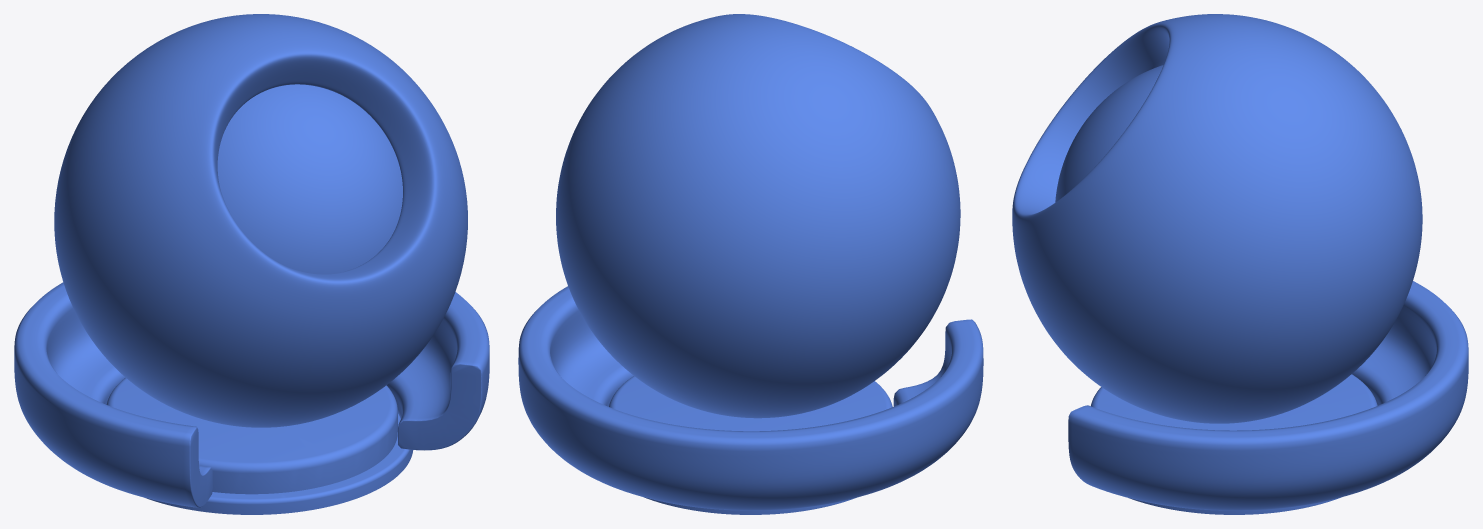
Rendered from gltf_pbr_plastic.mtlx.glb.
3 views of the same model, side by side, from view 1: azimuth 30°, elevation 25°; view 2: azimuth 150°, elevation 25°; view 3: azimuth 270°, elevation 25° (orthographic). The views are drawn at different scales.
Parts seen in each view (by area): view 1: Preview_Mesh, Calibration_Mesh; view 2: Preview_Mesh, Calibration_Mesh; view 3: Preview_Mesh, Calibration_Mesh.
Boxes of the visible parts, x1,y1,x2,y2 form: Preview_Mesh: (14, 14, 489, 507); Calibration_Mesh: (106, 84, 413, 514); Preview_Mesh: (518, 14, 983, 510); Calibration_Mesh: (609, 376, 892, 514); Preview_Mesh: (1012, 14, 1468, 510); Calibration_Mesh: (1055, 65, 1377, 514).
Size of the model in its own units: 2.14 by 2.09 by 2.08.
